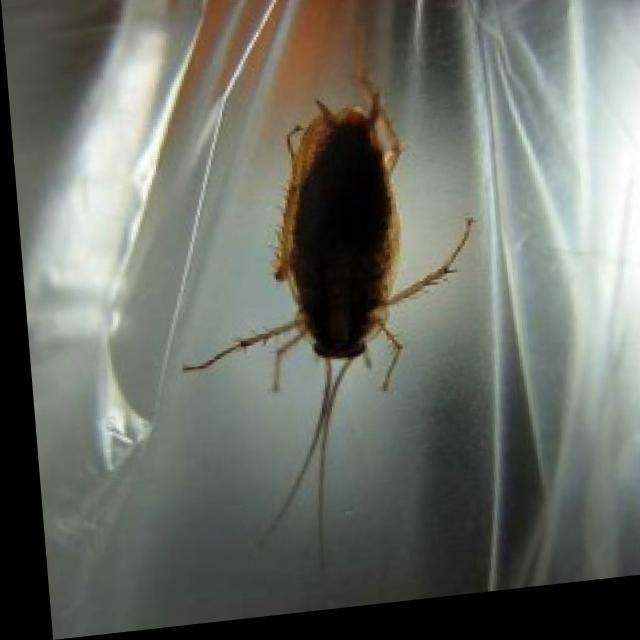cockroach: (179, 72, 480, 565)
